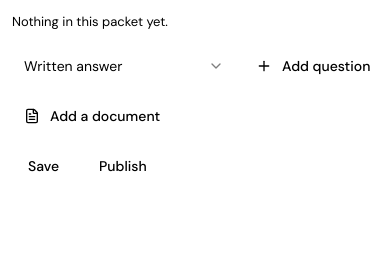
Test: IntakeItemEditor › adding a document › says where to write one when the practice has none
The image size is (387, 262).
Click the button "Add a document": (92, 116) [12, 100, 172, 132]
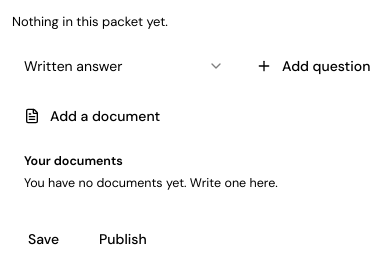
Expected: the text "You have no documents yet. Write one here." is shown, [24, 175, 278, 191]
